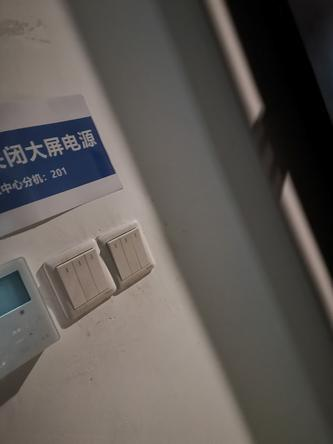switch: (56, 259, 85, 311), (82, 247, 112, 292), (71, 250, 96, 302), (106, 236, 131, 281), (118, 232, 145, 270), (131, 226, 155, 267)
